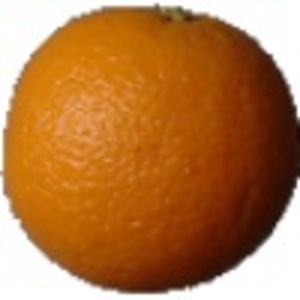laranja: (3, 3, 299, 294)
